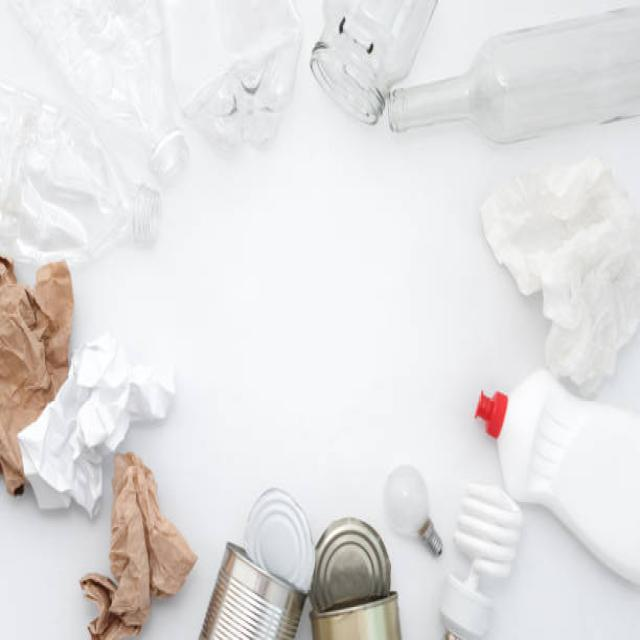glass: (314, 2, 637, 127)
paper: (0, 263, 190, 640), (470, 177, 640, 378)
plastic: (1, 2, 301, 240), (215, 497, 402, 640)
